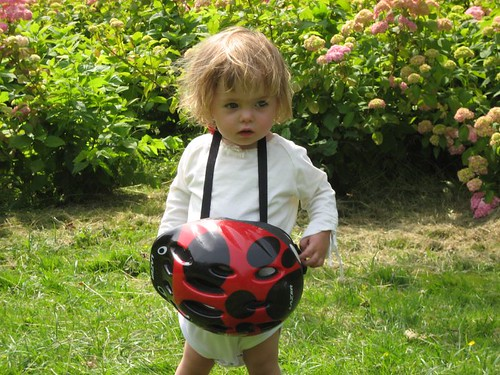helmet: (148, 219, 301, 334)
